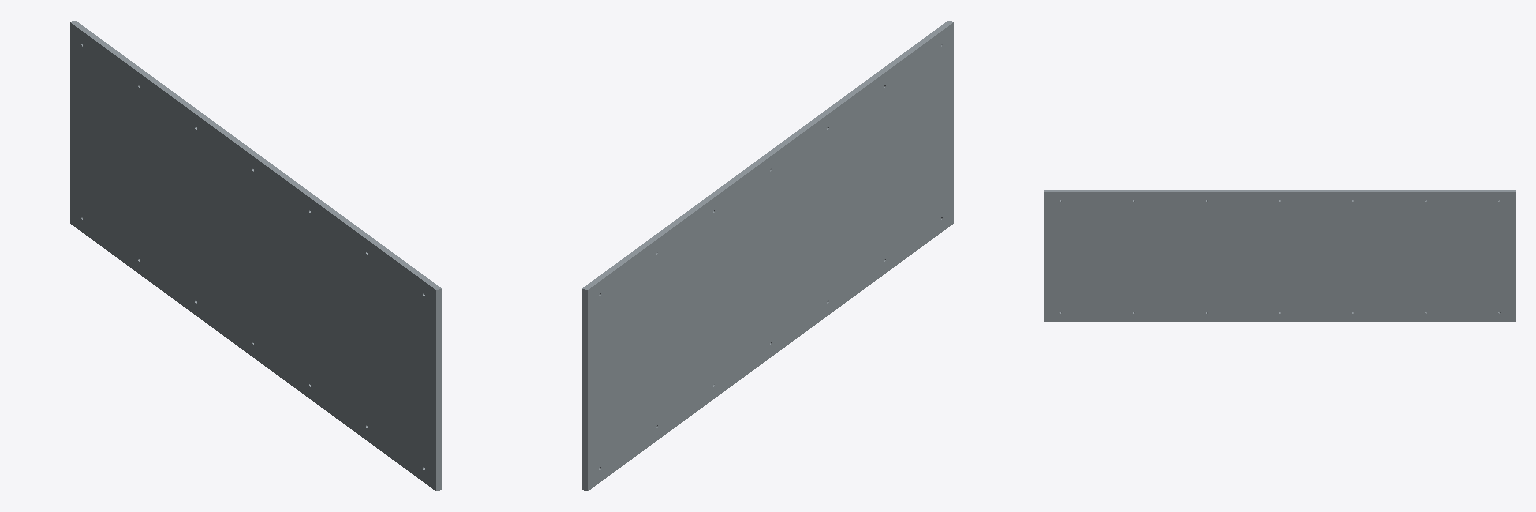
URDF robot description (arm1):
<?xml version="1.0" encoding="utf-8"?>
<!-- This URDF was automatically created by SolidWorks to URDF Exporter! Originally created by [author] ([email redacted]) 
     Commit Version: 1.6.0-4-g7f85cfe  Build Version: 1.6.7995.38578
     For more information, please see http://wiki.ros.org/sw_urdf_exporter -->
<robot
  name="arm1">
  <link 
    name="base_base_link"/>
  <link
    name="base_link">
    <inertial>
      <origin
        xyz="-0.75118 -0.35506 0.6181"
        rpy="0 0 0" />
      <mass
        value="0.48809" />
      <inertia
        ixx="0.0015559"
        ixy="-0.00029123"
        ixz="-2.6469E-05"
        iyy="0.0011495"
        iyz="-0.00059278"
        izz="0.0016056" />
    </inertial>
    <visual>
      <origin
        xyz="0 0 0"
        rpy="0 0 0" />
      <geometry>
        <mesh
          filename="package://arm1/meshes/base_link.STL" />
      </geometry>
      <material
        name="">
        <color
          rgba="0.62745 0.65882 0.67843 1" />
      </material>
    </visual>
    <collision>
      <origin
        xyz="0 0 0"
        rpy="0 0 0" />
      <geometry>
        <mesh
          filename="package://arm1/meshes/base_link.STL" />
      </geometry>
    </collision>
  </link>
  <link
    name="link_turntable">
    <inertial>
      <origin
        xyz="-0.025587 -0.012115 0.041225"
        rpy="0 0 0" />
      <mass
        value="0.83487" />
      <inertia
        ixx="0.00094597"
        ixy="-4.0179E-05"
        ixz="-5.1927E-05"
        iyy="0.0010583"
        iyz="4.635E-06"
        izz="0.00071889" />
    </inertial>
    <visual>
      <origin
        xyz="0 0 0"
        rpy="0 0 0" />
      <geometry>
        <mesh
          filename="package://arm1/meshes/link_turntable.STL" />
      </geometry>
      <material
        name="">
        <color
          rgba="0.89804 0.91765 0.92941 1" />
      </material>
    </visual>
    <collision>
      <origin
        xyz="0 0 0"
        rpy="0 0 0" />
      <geometry>
        <mesh
          filename="package://arm1/meshes/link_turntable.STL" />
      </geometry>
    </collision>
  </link>
    <joint
    name="base_joint"
    type="fixed">
    <origin
      xyz="0.75729581407264 0.598615888399153 0.307790852884674"
      rpy="0 0 0" />
    <parent
      link="base_base_link" />
    <child
      link="base_link" />
  </joint>
  <joint
    name="joint_turntable"
    type="revolute">
    <origin
      xyz="-0.75729581407264 -0.598615888399153 -0.307790852884674"
      rpy="0 0 -1.5707963267949" />
    <parent
      link="base_link" />
    <child
      link="link_turntable" />
    <axis
      xyz="0.751654206505026 0.300853226584914 -0.586944026204157" />
    <limit lower="-2.03859" upper="0.984" effort="5.0" velocity="2.0" acceleration="1.0" />

  </joint>
  <link
    name="link_axis1">
    <inertial>
      <origin
        xyz="-0.026363 -0.11844 0.13898"
        rpy="0 0 0" />
      <mass
        value="1.2075" />
      <inertia
        ixx="0.0099183"
        ixy="-0.00074072"
        ixz="0.0031258"
        iyy="0.011079"
        iyz="0.0016509"
        izz="0.00304" />
    </inertial>
    <visual>
      <origin
        xyz="0 0 0"
        rpy="0 0 0" />
      <geometry>
        <mesh
          filename="package://arm1/meshes/link_axis1.STL" />
      </geometry>
      <material
        name="">
        <color
          rgba="0.75294 0.75294 0.75294 1" />
      </material>
    </visual>
    <collision>
      <origin
        xyz="0 0 0"
        rpy="0 0 0" />
      <geometry>
        <mesh
          filename="package://arm1/meshes/link_axis1.STL" />
      </geometry>
    </collision>
  </link>
  <joint
    name="joint_axis1"
    type="revolute">
    <origin
      xyz="-0.0655207637557417 0.0577180534779368 0.0734579500015488"
      rpy="0 0 0" />
    <parent
      link="link_turntable" />
    <child
      link="link_axis1" />
    <axis
      xyz="0.328543830326874 -0.942430072702363 -0.0623258342933837" />
    <limit lower="-1.091" upper="1.409" effort="5.0" velocity="2.0" acceleration="1.0" />

  </joint>
  <link
    name="link_axis2">
    <inertial>
      <origin
        xyz="0.0120616928967049 -0.0575161563291976 0.00362961179898152"
        rpy="0 0 0" />
      <mass
        value="0.50949002444583" />
      <inertia
        ixx="0.000489832647698887"
        ixy="7.26871784681246E-05"
        ixz="-9.41603824346971E-06"
        iyy="0.000311727928592659"
        iyz="-2.03565135651366E-05"
        izz="0.000545866848612843" />
    </inertial>
    <visual>
      <origin
        xyz="0 0 0"
        rpy="0 0 0" />
      <geometry>
        <mesh
          filename="package://arm1/meshes/link_axis2.STL" />
      </geometry>
      <material
        name="">
        <color
          rgba="0.752941176470588 0.752941176470588 0.752941176470588 1" />
      </material>
    </visual>
    <collision>
      <origin
        xyz="0 0 0"
        rpy="0 0 0" />
      <geometry>
        <mesh
          filename="package://arm1/meshes/link_axis2.STL" />
      </geometry>
    </collision>
  </link>
  <joint
    name="joint_axis2"
    type="revolute">
    <origin
      xyz="-0.119315742016965 -0.0911363032403798 0.328341244367117"
      rpy="0 0 0" />
    <parent
      link="link_axis1" />
    <child
      link="link_axis2" />
    <axis
      xyz="0.328543830326874 -0.942430072702362 -0.062325834293384" />
    <limit lower="-0.696" upper="1.74746" effort="5.0" velocity="2.0" acceleration="1.0" />
  </joint>
  <link
    name="link_axis3">
    <inertial>
      <origin
        xyz="0.213335533760281 0.0695601801859741 0.098443768367438"
        rpy="0 0 0" />
      <mass
        value="0.881583524101265" />
      <inertia
        ixx="0.00207559183419843"
        ixy="-0.000914107654223854"
        ixz="-0.00138374507363724"
        iyy="0.00468849837599157"
        iyz="-0.000446845064746683"
        izz="0.00446997979885745" />
    </inertial>
    <visual>
      <origin
        xyz="0 0 0"
        rpy="0 0 0" />
      <geometry>
        <mesh
          filename="package://arm1/meshes/link_axis3.STL" />
      </geometry>
      <material
        name="">
        <color
          rgba="0.627450980392157 0.658823529411765 0.67843137254902 1" />
      </material>
    </visual>
    <collision>
      <origin
        xyz="0 0 0"
        rpy="0 0 0" />
      <geometry>
        <mesh
          filename="package://arm1/meshes/link_axis3.STL" />
      </geometry>
    </collision>
  </link>
  <joint
    name="joint_axis3"
    type="revolute">
    <origin
      xyz="0.018218 -0.048216 -0.0027262"
      rpy="0 0 0" />
    <parent
      link="link_axis2" />
    <child
      link="link_axis3" />
    <axis
      xyz="-0.87281 -0.27773 -0.40132" />
    <limit lower="-1.33479" upper="1.8067995" effort="5.0" velocity="2.0" acceleration="1.0" />

  </joint>
  <link
    name="link_axis4">
    <inertial>
      <origin
        xyz="2.21515842878661E-05 -0.0468597309294064 -0.00242519114267015"
        rpy="0 0 0" />
      <mass
        value="0.39169705426019" />
      <inertia
        ixx="0.000306613917411435"
        ixy="-5.47499906973088E-05"
        ixz="8.55743025528078E-06"
        iyy="0.000454493934676782"
        iyz="2.29987326931141E-06"
        izz="0.000482222947756292" />
    </inertial>
    <visual>
      <origin
        xyz="0 0 0"
        rpy="0 0 0" />
      <geometry>
        <mesh
          filename="package://arm1/meshes/link_axis4.STL" />
      </geometry>
      <material
        name="">
        <color
          rgba="0.627450980392157 0.658823529411765 0.67843137254902 1" />
      </material>
    </visual>
    <collision>
      <origin
        xyz="0 0 0"
        rpy="0 0 0" />
      <geometry>
        <mesh
          filename="package://arm1/meshes/link_axis4.STL" />
      </geometry>
    </collision>
  </link>
  <joint
    name="joint_axis4"
    type="revolute">
    <origin
      xyz="0.39197 0.16869 0.18931"
      rpy="0 0 0" />
    <parent
      link="link_axis3" />
    <child
      link="link_axis4" />
    <axis
      xyz="0.3295 -0.94193 -0.064754" />
    <limit lower="-1.002" upper="2.03959265359" effort="5.0" velocity="2.0" acceleration="1.0" />

  </joint>
  <link
    name="link_ender">
    <inertial>
      <origin
        xyz="-0.0362253408744452 -0.0127905539174791 0.00171737280923212"
        rpy="0 0 0" />
      <mass
        value="0.0496523692311761" />
      <inertia
        ixx="7.69610493253832E-06"
        ixy="-5.82800269092538E-06"
        ixz="7.8745024704373E-07"
        iyy="2.21461021933751E-05"
        iyz="2.77743045115595E-07"
        izz="2.41638018238003E-05" />
    </inertial>
    <visual>
      <origin
        xyz="0 0 0"
        rpy="0 0 0" />
      <geometry>
        <mesh
          filename="package://arm1/meshes/link_ender.STL" />
      </geometry>
      <material
        name="">
        <color
          rgba="0.627450980392157 0.658823529411765 0.67843137254902 1" />
      </material>
    </visual>
    <collision>
      <origin
        xyz="0 0 0"
        rpy="0 0 0" />
      <geometry>
        <mesh
          filename="package://arm1/meshes/link_ender.STL" />
      </geometry>
    </collision>
  </link>
  <joint
    name="joint_ender"
    type="revolute">
    <origin
      xyz="0.069889 -0.019771 -0.0053796"
      rpy="0 0 0" />
    <parent
      link="link_axis4" />
    <child
      link="link_ender" />
    <axis
      xyz="-0.94201 -0.3326 0.044705" />
    <limit lower="-1.375" upper="0.76459265359" effort="5.0" velocity="2.0" acceleration="1.0" />

  </joint>
</robot>

--- What the picture shows (computed from the rendered views, not written in the file) ---
The picture shows the robot from 3 angles, left to right: view 1: azimuth 30°, elevation 25°; view 2: azimuth 150°, elevation 25°; view 3: azimuth 270°, elevation 25°; orthographic projection.
Robot: arm1 — 8 links, 7 joints (6 revolute, 1 fixed); root link base_base_link; default pose: every joint at zero.
Visible links, largest first — view 1: base_link; view 2: base_link; view 3: base_link.
Boxes of the visible links, x1,y1,x2,y2 form: base_link: [70, 21, 441, 490]; base_link: [582, 21, 953, 490]; base_link: [1044, 190, 1515, 321].
Size in the robot's own frame: 0.005 by 0.528 by 0.16 metres.
1 mesh visuals loaded from 7 distinct referenced files (1 binary STL); not drawn: 6 (reference not matched to a file when rendering).